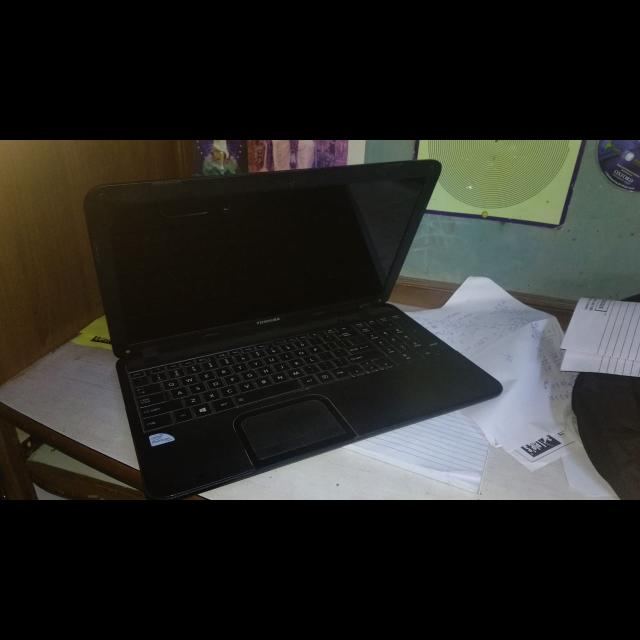Laptop: (68, 156, 512, 500)
